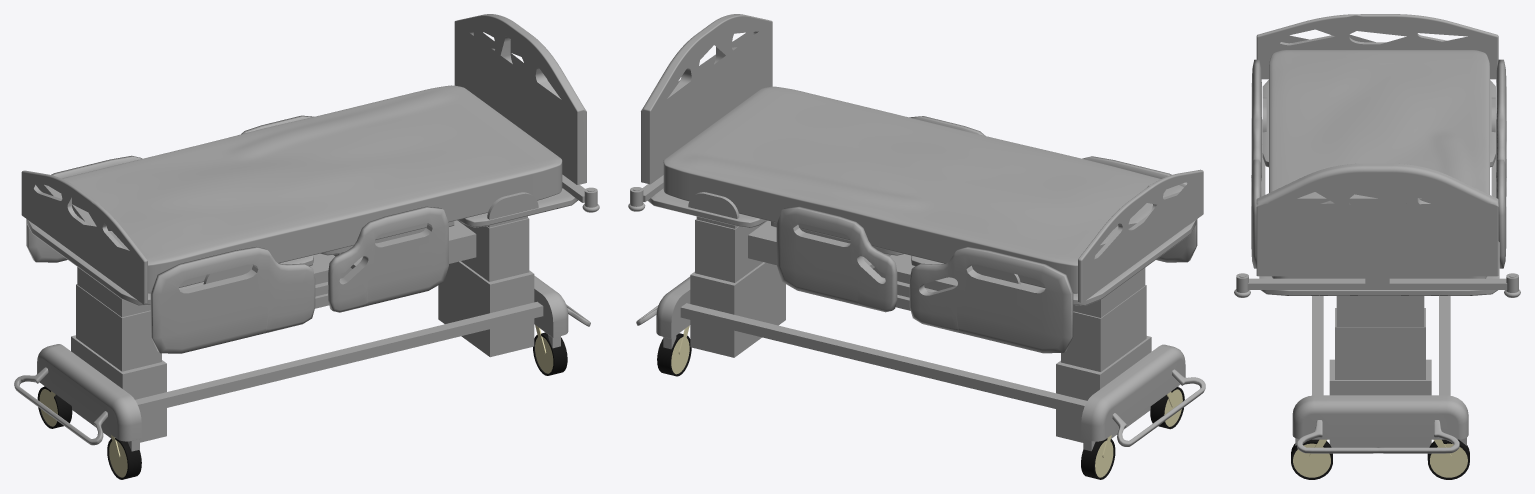
Rendered from hospitalbed_newUV.fbx.
3 renders of one model, left to right at view 1: azimuth 30°, elevation 25°; view 2: azimuth 150°, elevation 25°; view 3: azimuth 270°, elevation 25°, orthographic.
Parts seen in each view (by area): view 1: Matress, legs_pCube1, Side_thinges, headrest, footrest, pCube17, bed_bottom, pCube5, pCylinder1, pCylinder8, pCylinder2; view 2: Matress, legs_pCube1, Side_thinges, headrest, footrest, pCube18, bed_bottom, pCube5, pCylinder2, pCylinder7, pCylinder1; view 3: headrest, Matress, legs_pCube1, footrest, Side_thinges, bed_bottom, pCube5, pCube18, pCube17, pCylinder7, pCylinder8.
Part boxes in pixels (x1,y1,x2,y2): Matress: [44, 85, 562, 293]; legs_pCube1: [37, 216, 568, 451]; Side_thinges: [26, 115, 448, 353]; headrest: [454, 14, 599, 212]; footrest: [21, 170, 147, 304]; pCube17: [135, 301, 543, 414]; bed_bottom: [27, 188, 578, 305]; pCube5: [14, 367, 107, 445]; pCylinder1: [107, 438, 141, 479]; pCylinder8: [533, 332, 567, 375]; pCylinder2: [37, 386, 72, 428]; Matress: [663, 86, 1183, 293]; legs_pCube1: [656, 216, 1185, 451]; Side_thinges: [776, 116, 1197, 353]; headrest: [628, 14, 772, 211]; footrest: [1078, 169, 1203, 302]; pCube18: [680, 303, 1086, 415]; bed_bottom: [647, 188, 1196, 305]; pCube5: [1112, 369, 1205, 446]; pCylinder2: [1081, 438, 1115, 479]; pCylinder7: [657, 333, 691, 376]; pCylinder1: [1150, 387, 1184, 429]; headrest: [1234, 163, 1520, 297]; Matress: [1269, 50, 1489, 278]; legs_pCube1: [1292, 296, 1468, 447]; footrest: [1256, 14, 1498, 79]; Side_thinges: [1251, 59, 1506, 268]; bed_bottom: [1259, 80, 1499, 295]; pCube5: [1296, 420, 1459, 453]; pCube18: [1439, 296, 1450, 395]; pCube17: [1312, 296, 1323, 395]; pCylinder7: [1427, 439, 1469, 479]; pCylinder8: [1291, 439, 1332, 479].
Bounding box in the file's own units: 2.2 × 1.34 × 1.11.
2 materials, 1 textured.
